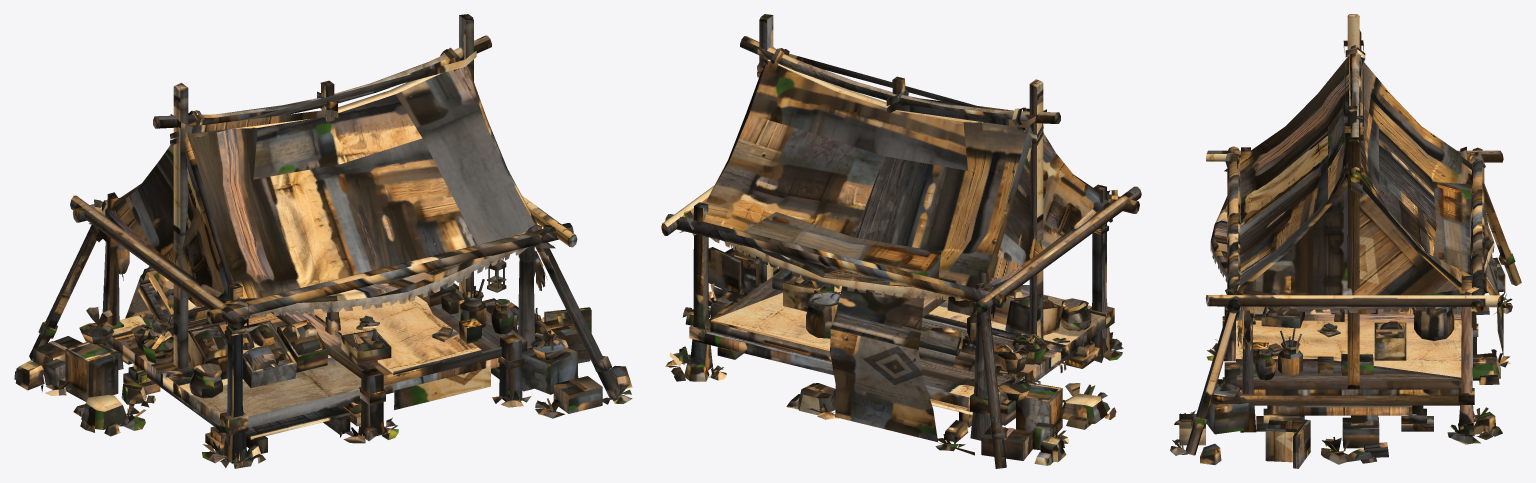
File: market+stall+3d+model(1).fbx
3 views of the same model, side by side, from view 1: azimuth 30°, elevation 25°; view 2: azimuth 150°, elevation 25°; view 3: azimuth 270°, elevation 25° (orthographic). The views are drawn at different scales.
Visible parts, largest first — view 1: ed067eb2_b28f_467d_90e4_265ec5322773; view 2: ed067eb2_b28f_467d_90e4_265ec5322773; view 3: ed067eb2_b28f_467d_90e4_265ec5322773.
Part boxes in pixels (bbox=[...]): ed067eb2_b28f_467d_90e4_265ec5322773: bbox=[14, 14, 632, 468]; ed067eb2_b28f_467d_90e4_265ec5322773: bbox=[661, 14, 1141, 468]; ed067eb2_b28f_467d_90e4_265ec5322773: bbox=[1170, 14, 1521, 468].
Bounding box in the file's own units: 0.9995 × 0.6665 × 0.7271.
